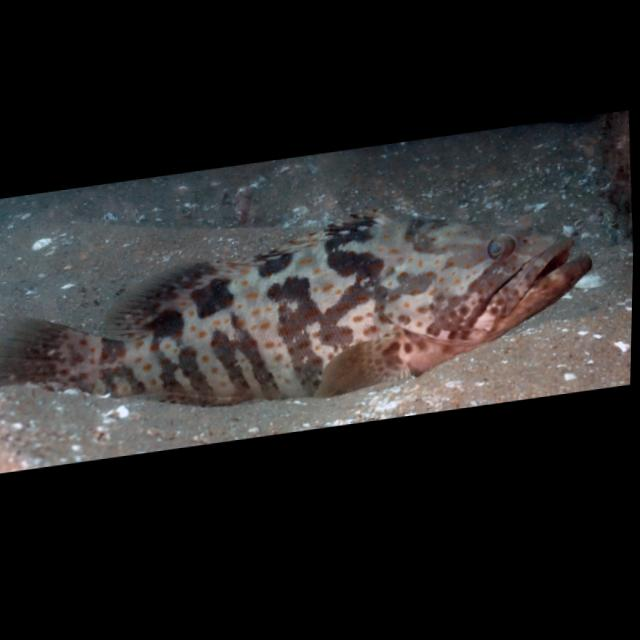Groupers: (0, 174, 600, 444)
